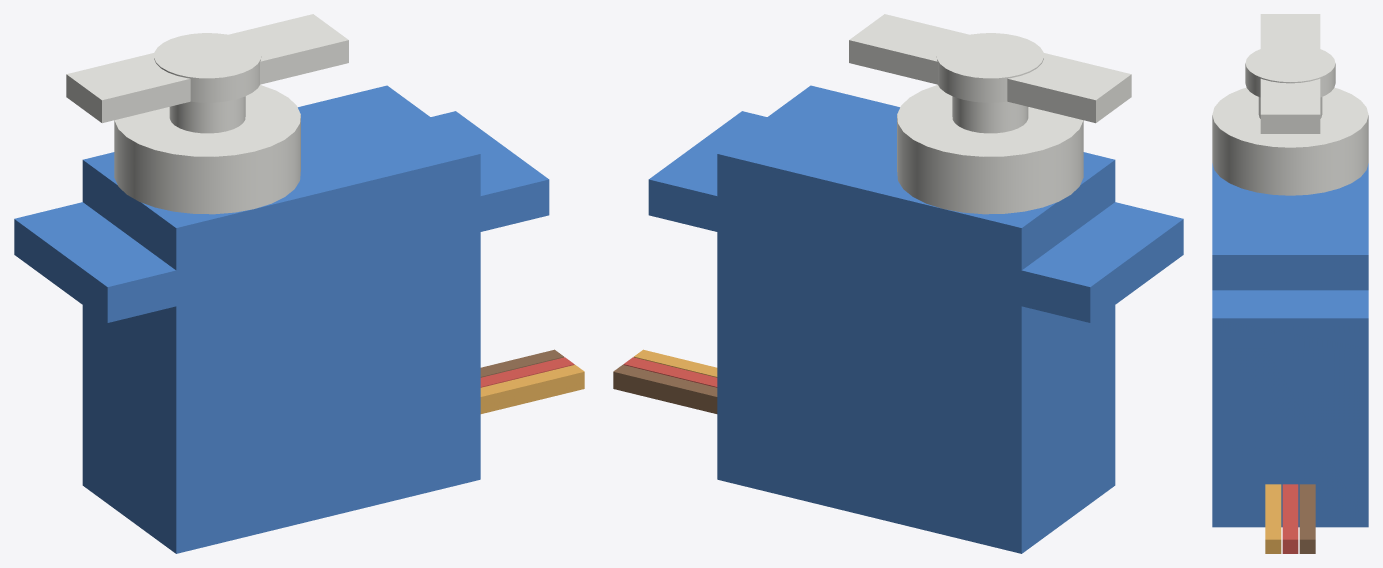
File: servo.glb
The picture shows the model from 3 angles, left to right: view 1: azimuth 30°, elevation 25°; view 2: azimuth 150°, elevation 25°; view 3: azimuth 270°, elevation 25°; orthographic projection. The views are drawn at different scales.
Parts seen in each view (by area): view 1: body, spindle, horn, wires; view 2: body, spindle, horn, wires; view 3: body, spindle, horn, wires.
Boxes of the visible parts, left/top/right/bottom form: body: left=14, top=85, right=549, bottom=553; spindle: left=114, top=39, right=300, bottom=214; horn: left=66, top=14, right=348, bottom=123; wires: left=480, top=349, right=584, bottom=413; body: left=648, top=85, right=1183, bottom=553; spindle: left=897, top=39, right=1083, bottom=214; horn: left=849, top=14, right=1131, bottom=123; wires: left=613, top=349, right=717, bottom=413; body: left=1212, top=163, right=1368, bottom=527; spindle: left=1212, top=49, right=1368, bottom=195; horn: left=1245, top=14, right=1335, bottom=133; wires: left=1265, top=484, right=1315, bottom=553.
Bounding box in the file's own units: 0.0371 × 0.031 × 0.0118.
